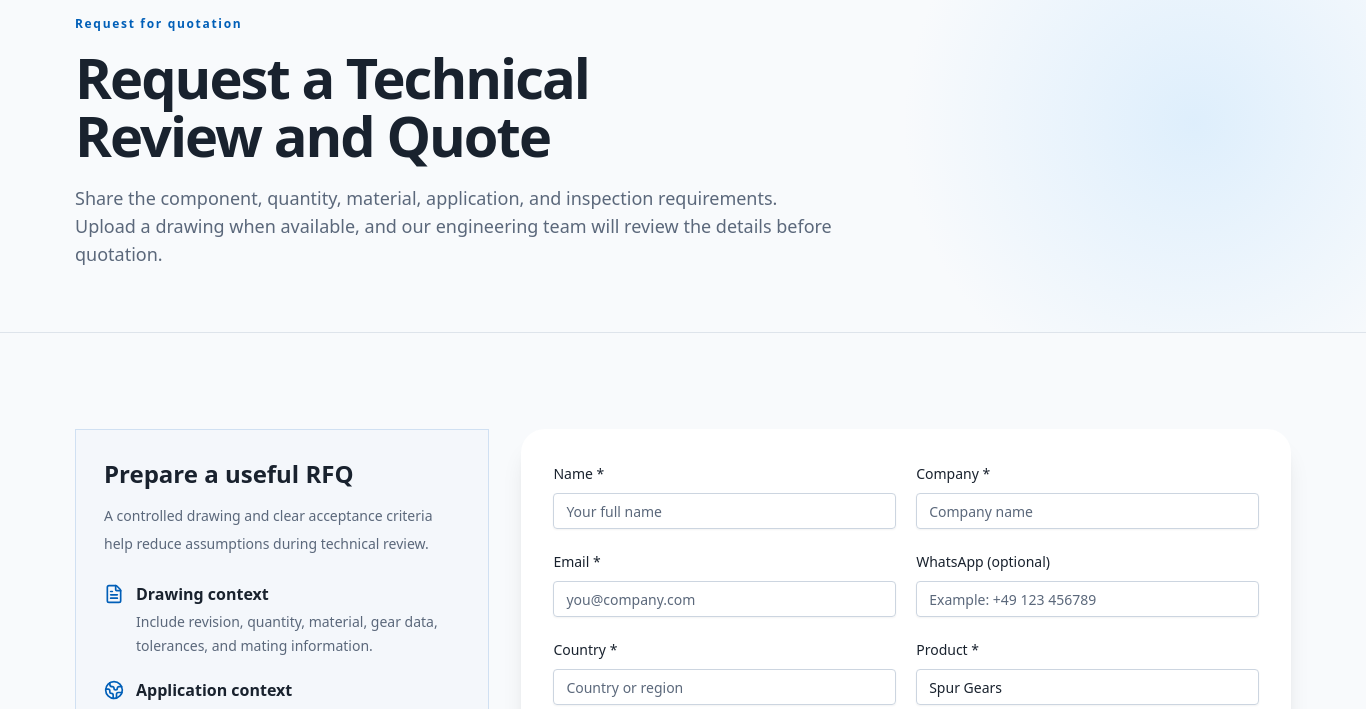
Test: contact page inquiry flow › keeps the confirmed inquiry successful when the CRM mirror is unavailable
In the field labelled "Name *": point(725, 512) [553,494,896,530], type "Alex Morgan"
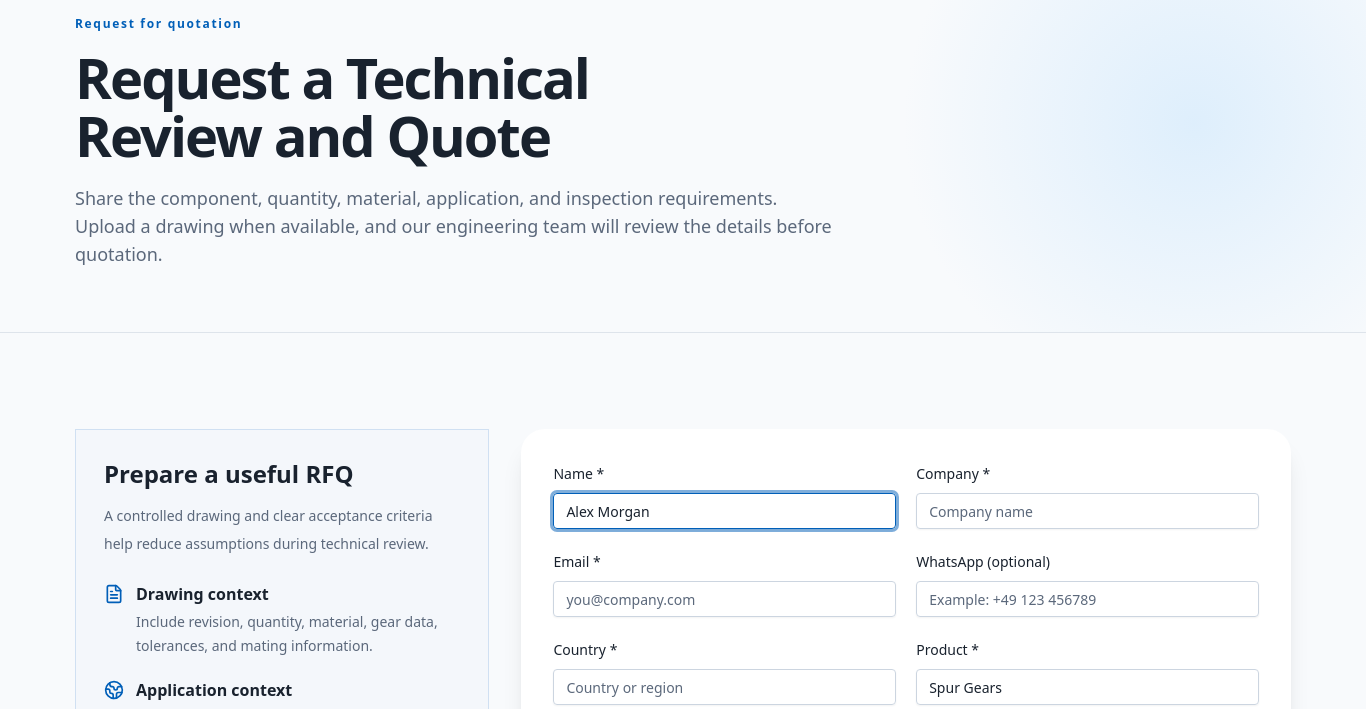
In the field labelled "Company *": point(1088, 512) [916,494,1259,530], type "Northstar Motion"
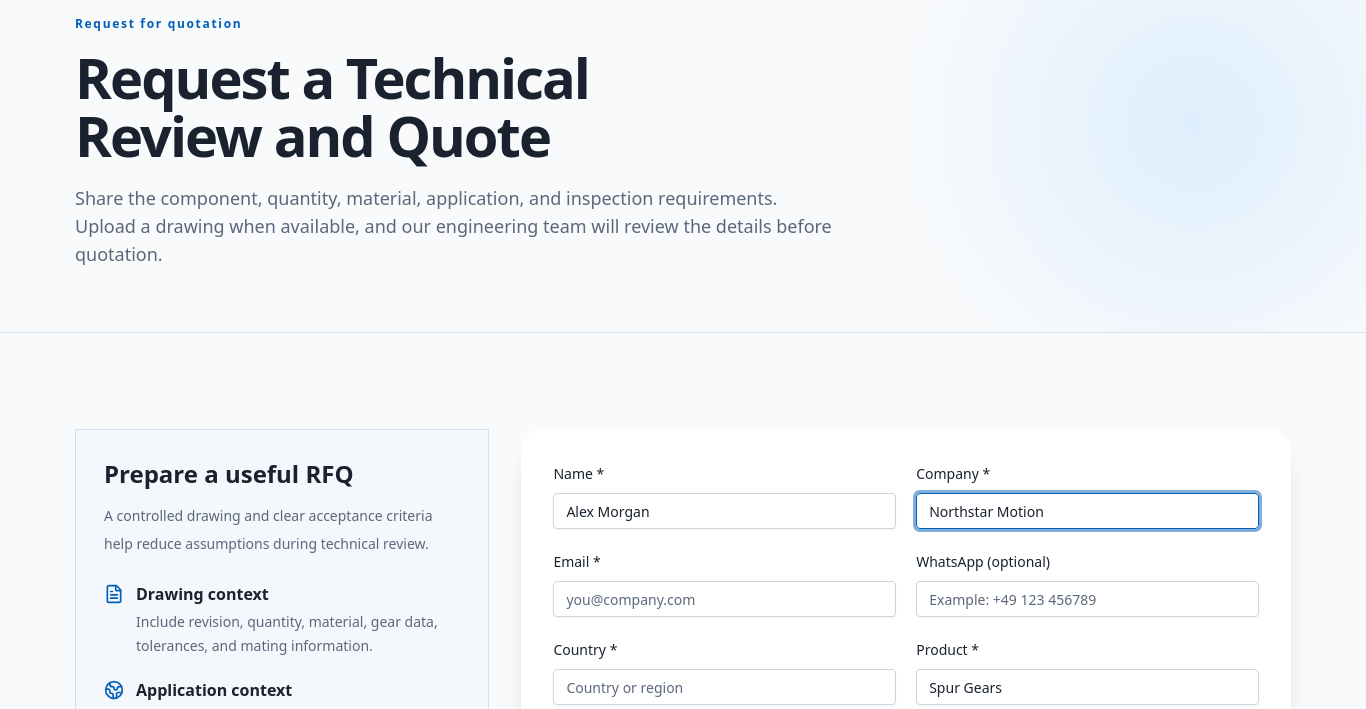
In the field labelled "Email *": point(725, 600) [553,582,896,618], type "alex@example.com"
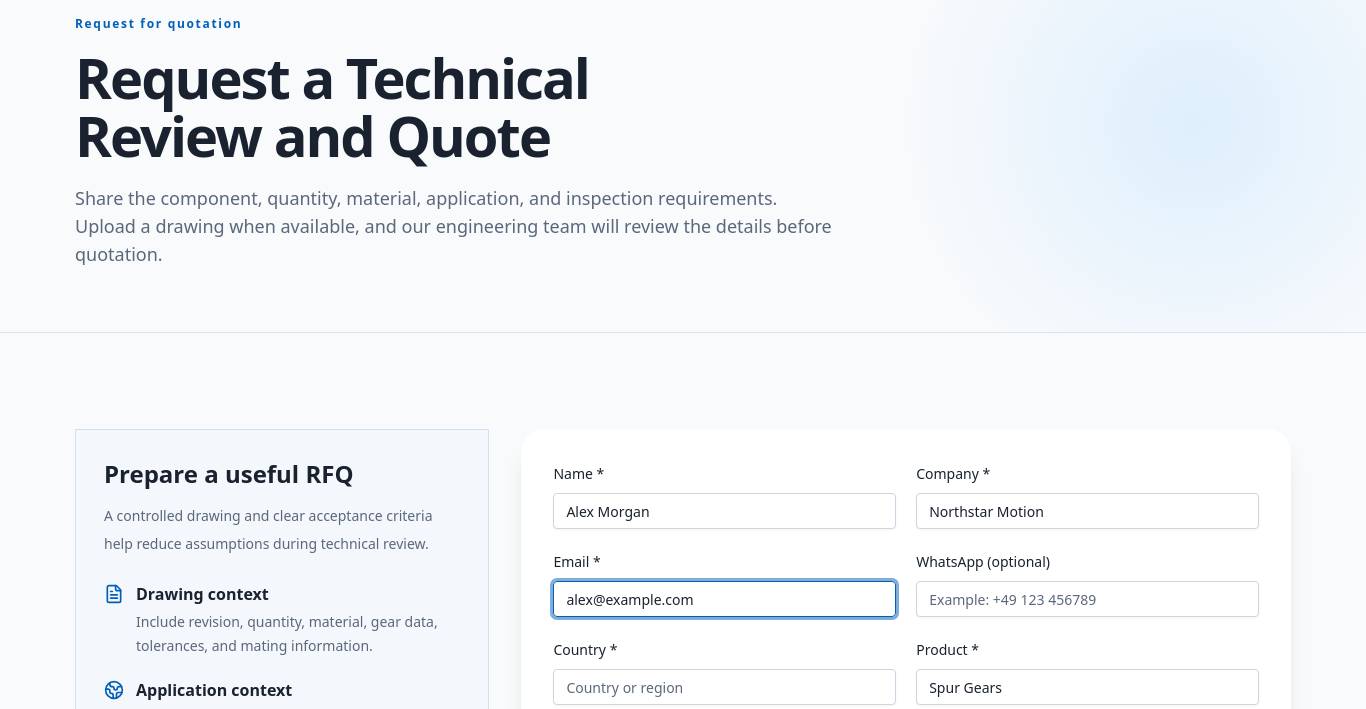
In the field labelled "Country *": point(725, 688) [553,670,896,706], type "Germany"
(page scrolled)
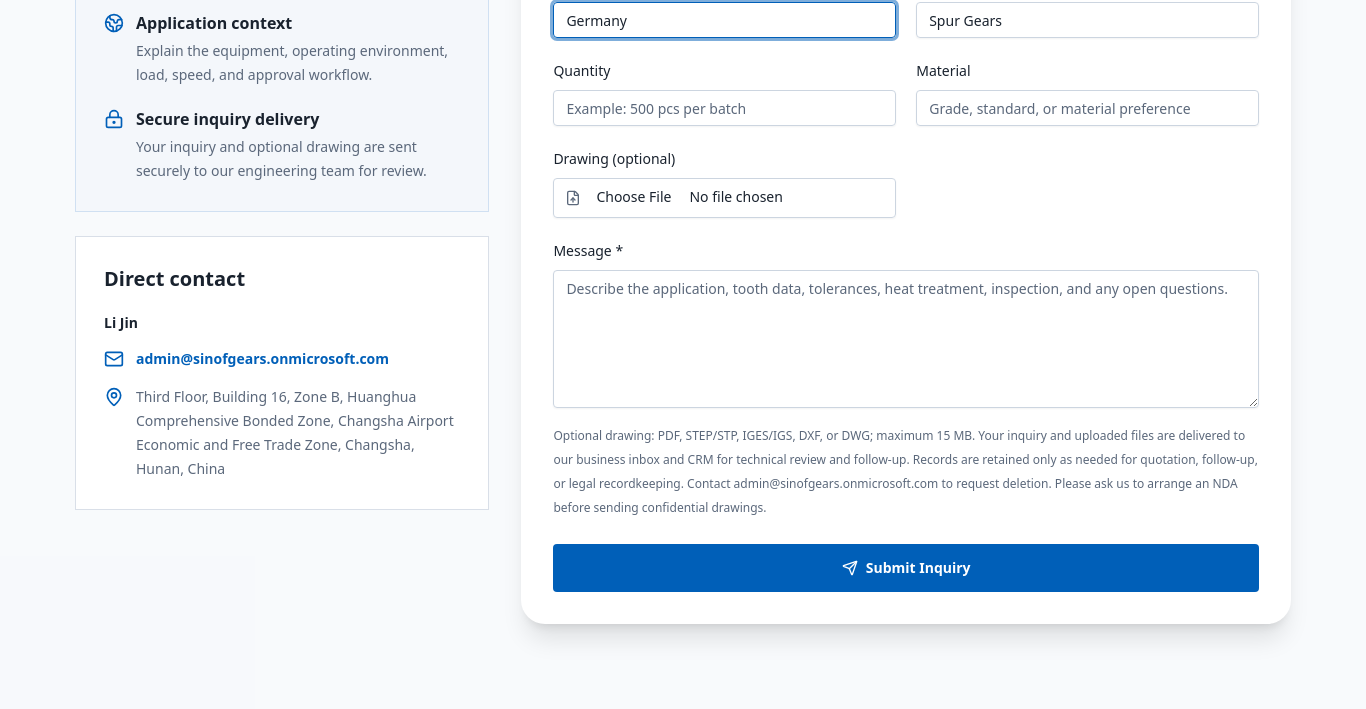
In the text box labelled "Message *": point(906, 340) [553,270,1259,408], type "Please review this gear for our packaging line."
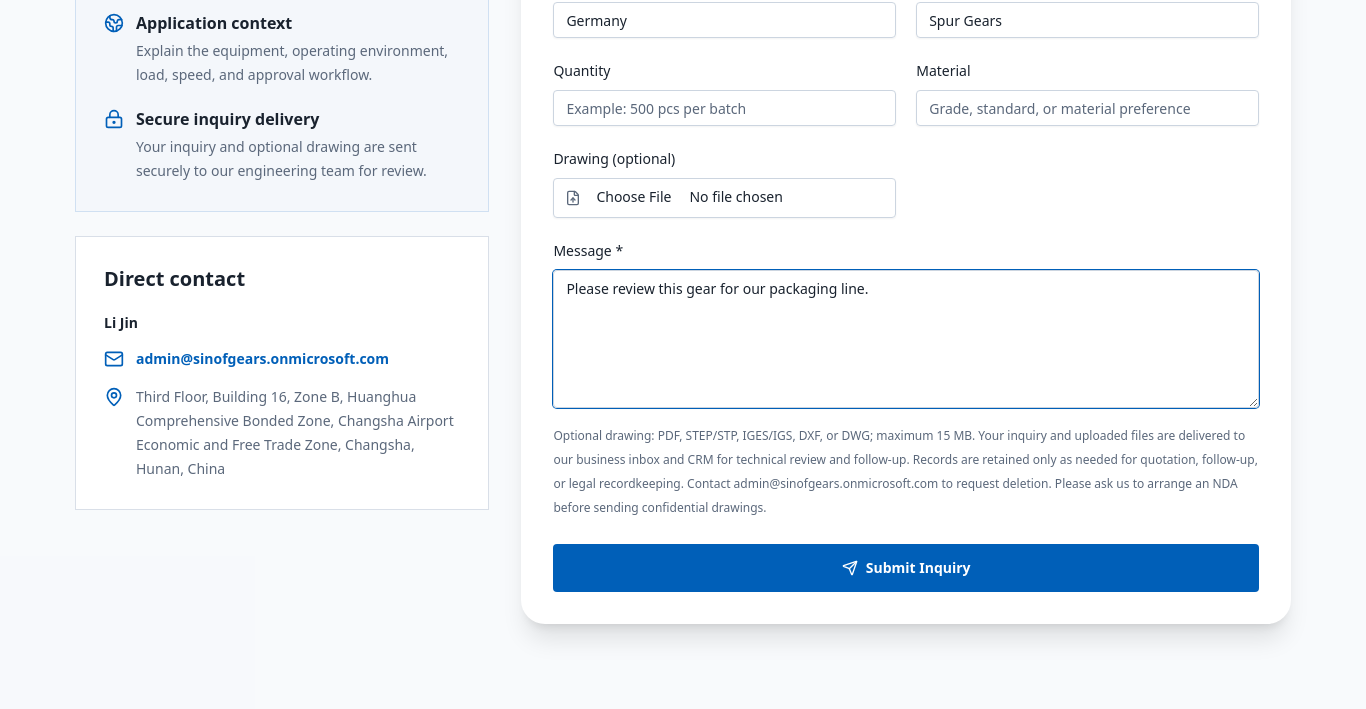
Click the button "Submit Inquiry": point(906, 568) [553,544,1259,592]
(page scrolled)
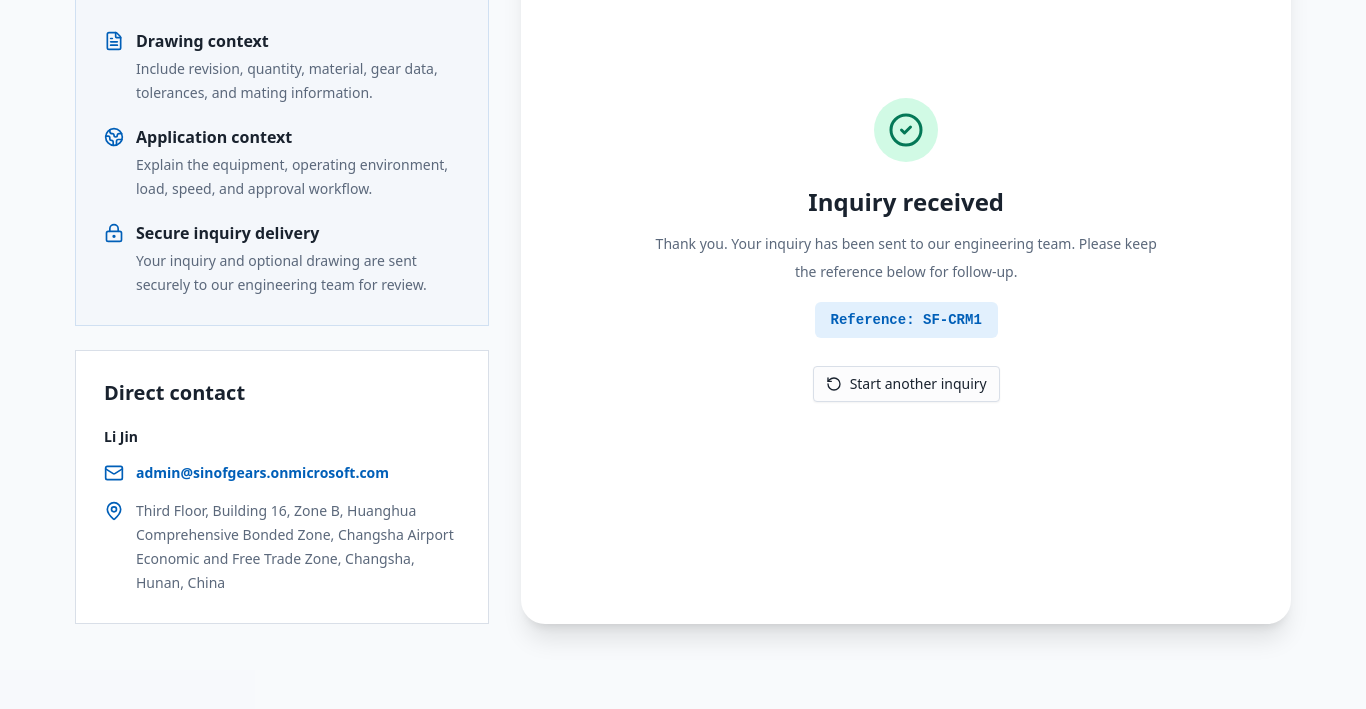
Check: the heading "Inquiry received" is shown, box [808,186,1004,218]
